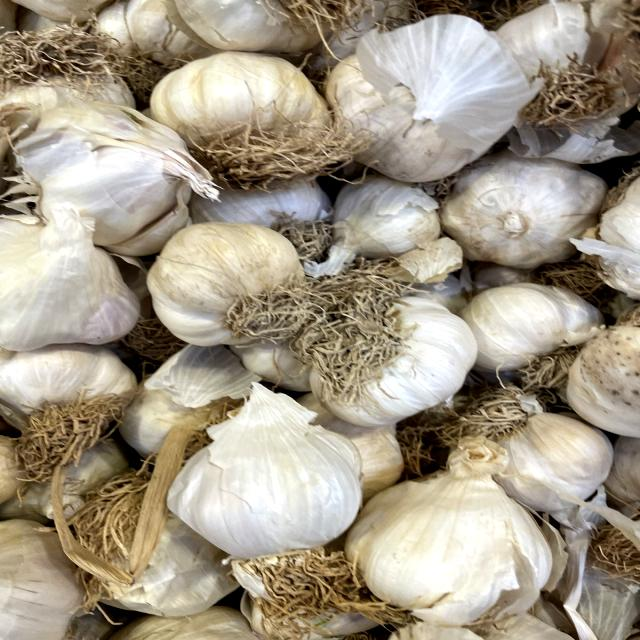garlic: (152, 387, 384, 597), (128, 38, 365, 190), (127, 205, 321, 356)
